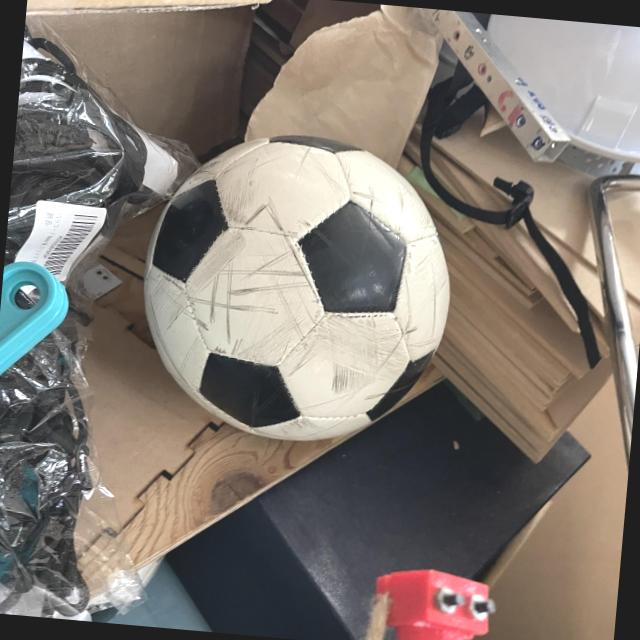Soccer Ball: (133, 123, 462, 454)
